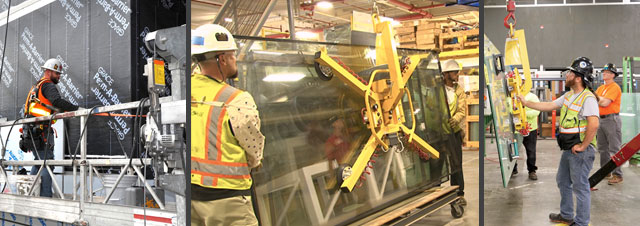Hard Hat: (190, 23, 241, 54), (564, 57, 595, 72), (441, 58, 463, 72), (43, 57, 63, 72), (601, 63, 621, 72)
High Viz: (190, 79, 244, 177), (559, 89, 595, 140), (27, 81, 50, 116)
